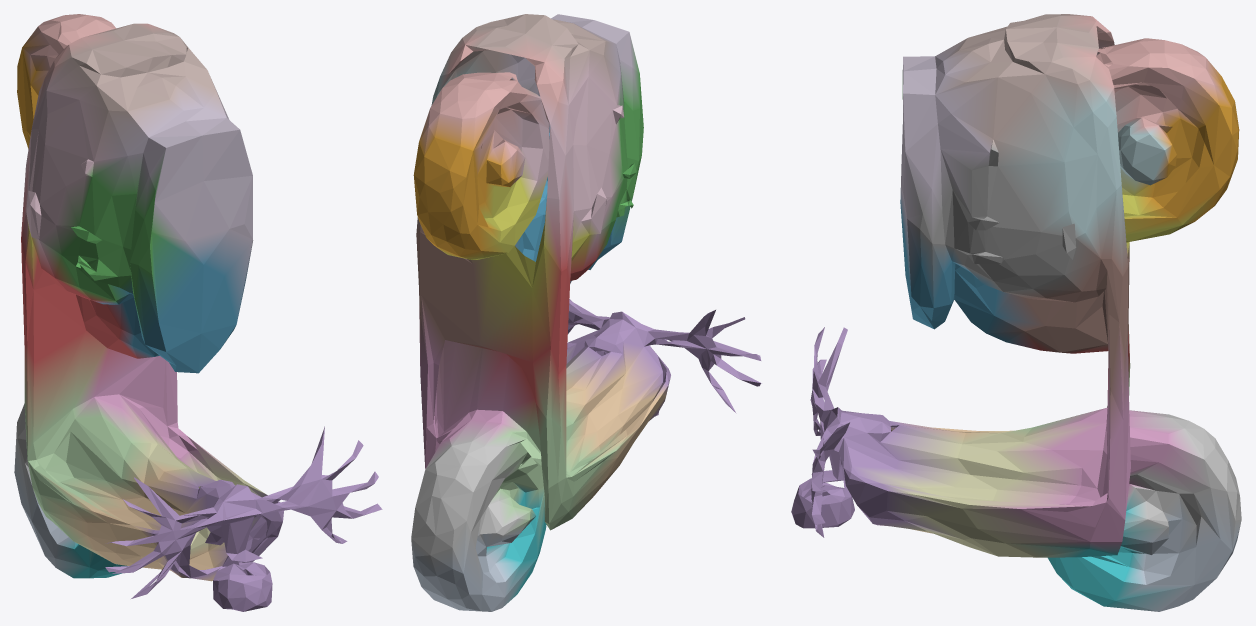
Rendered from clustering_k20.glb.
3 renders of one model, left to right at view 1: azimuth 30°, elevation 25°; view 2: azimuth 150°, elevation 25°; view 3: azimuth 270°, elevation 25°, orthographic. The views are drawn at different scales.
Parts seen in each view (by area): view 1: world; view 2: world; view 3: world.
Boxes of the visible parts, box(x1,y1,x2,y2) form: world: box(14, 14, 382, 611); world: box(411, 14, 761, 611); world: box(791, 14, 1241, 611).
Size of the model in its own units: 0.5068 by 0.993 by 0.7058.
